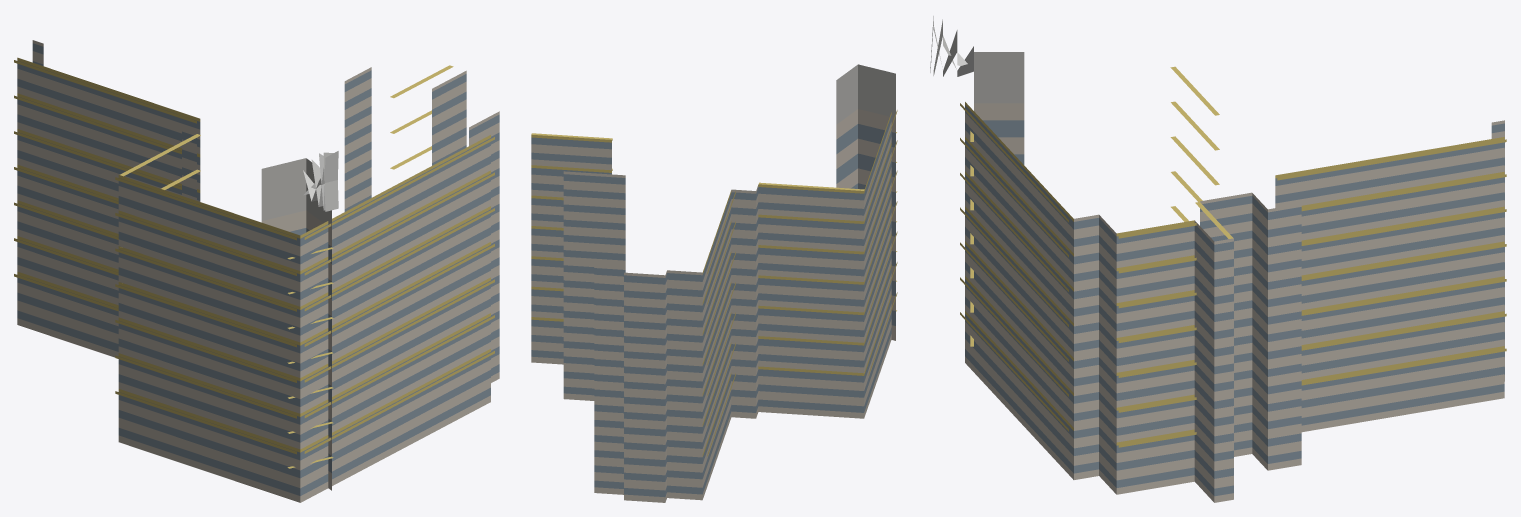
File: hotel-fregat.glb
3 views of the same model, side by side, from view 1: azimuth 30°, elevation 25°; view 2: azimuth 150°, elevation 25°; view 3: azimuth 270°, elevation 25° (orthographic). The views are drawn at different scales.
Bounding box in the file's own units: 66.99 × 62 × 91.94.
